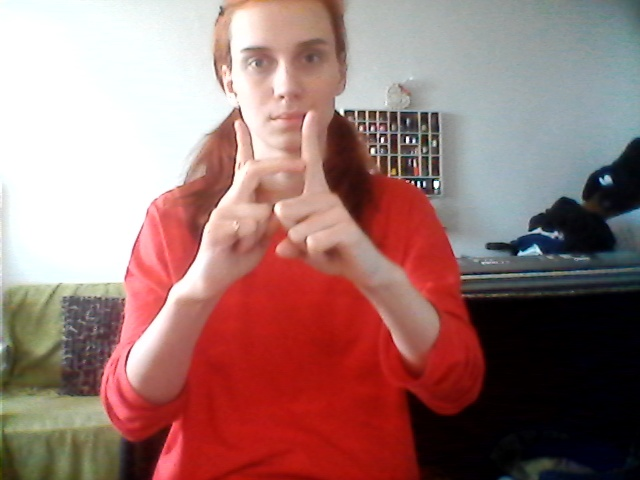h: (219, 119, 357, 280)
